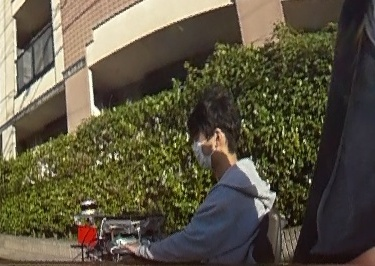person: (131, 95, 271, 266)
